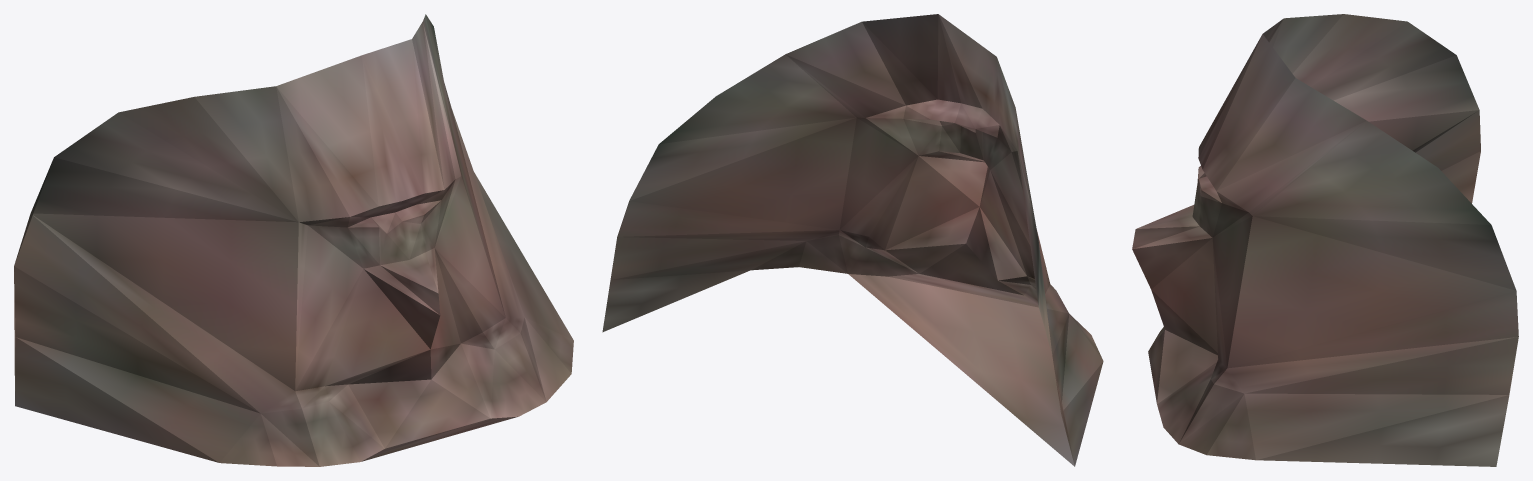
File: fake_14236.obj
The picture shows the model from 3 angles, left to right: view 1: azimuth 30°, elevation 25°; view 2: azimuth 150°, elevation 25°; view 3: azimuth 270°, elevation 25°; orthographic projection. The views are drawn at different scales.
Size of the model in its own units: 126 by 88 by 86.89.
